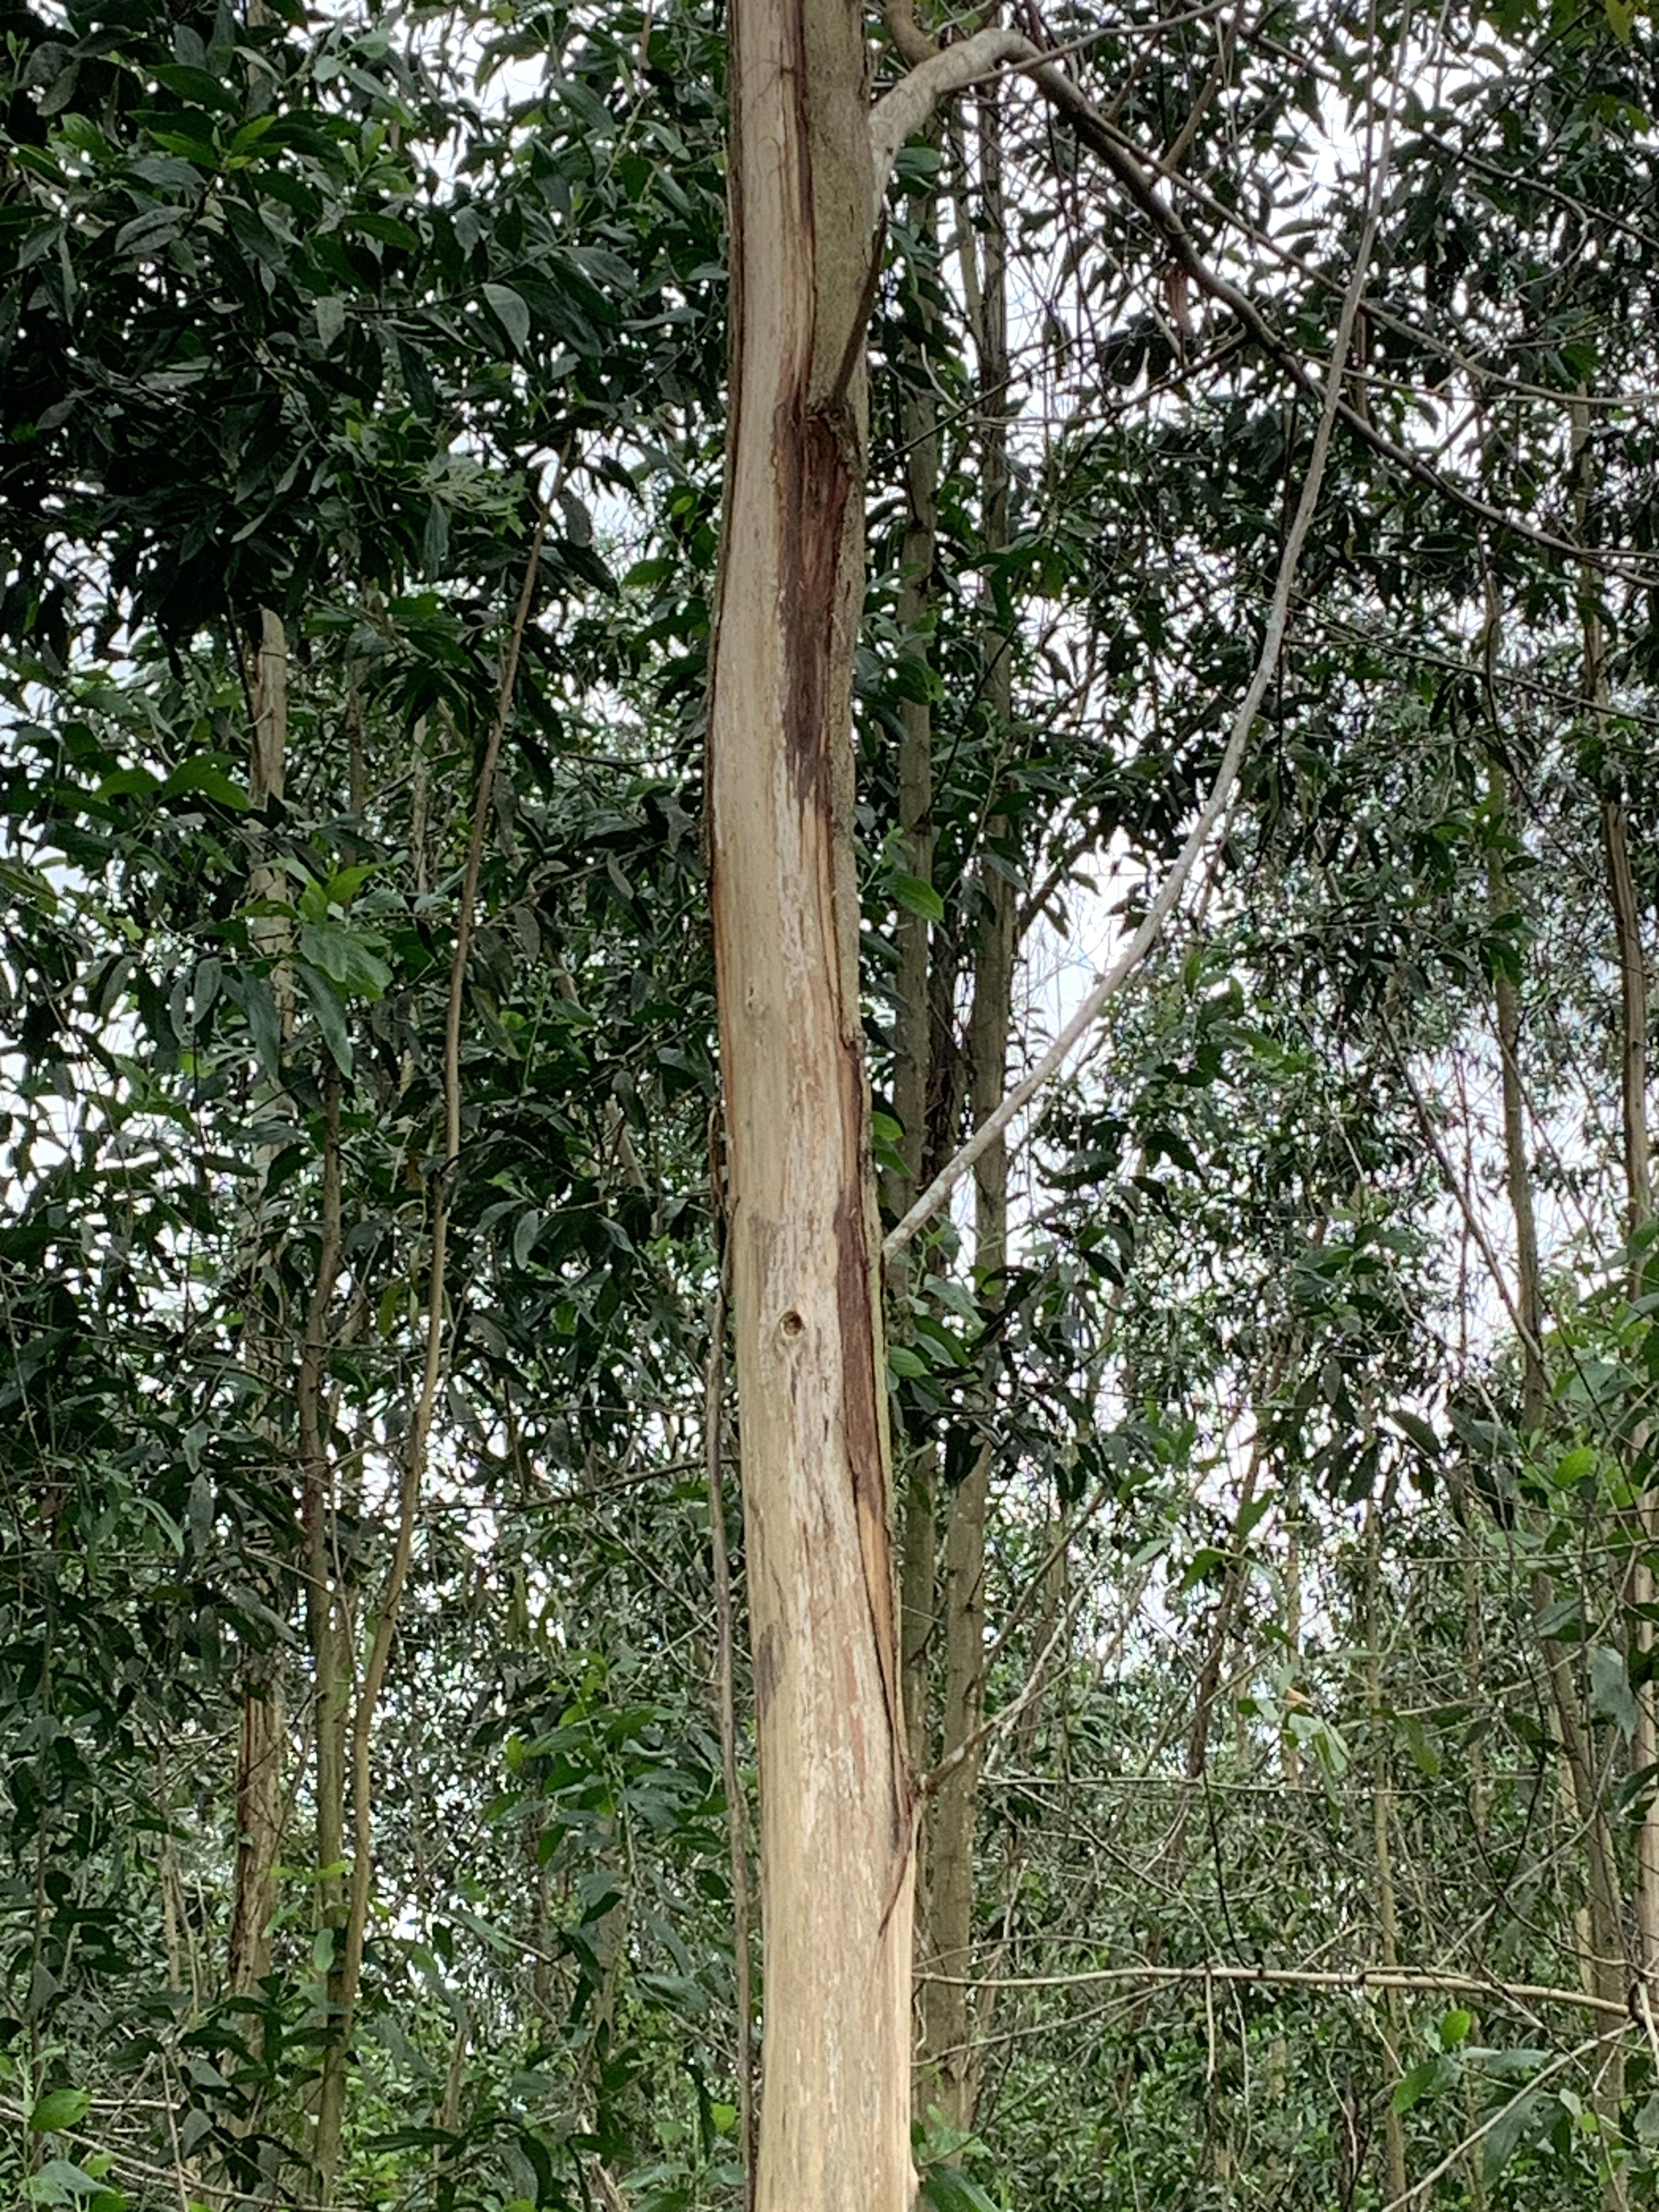Mammals Attack: (730, 0, 938, 2212)
